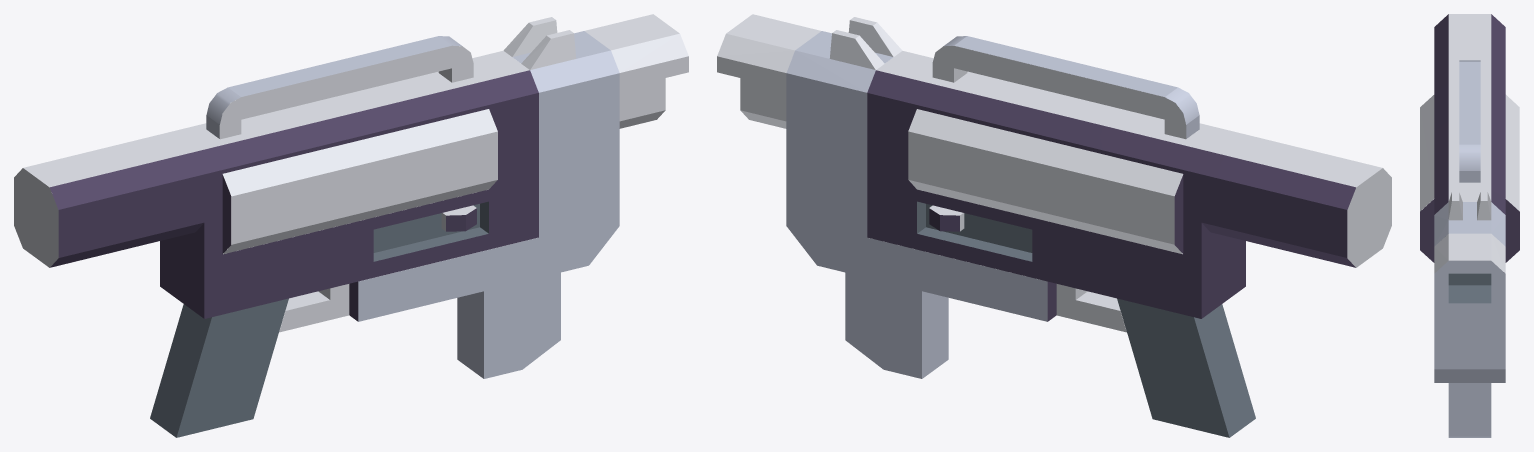
Rendered from blaster.gltf.
3 renders of one model, left to right at view 1: azimuth 30°, elevation 25°; view 2: azimuth 150°, elevation 25°; view 3: azimuth 270°, elevation 25°, orthographic. The views are drawn at different scales.
Visible parts, largest first — view 1: blasterA; view 2: blasterA; view 3: blasterA.
Part boxes in pixels (left/top/right/bottom): blasterA: left=14, top=14, right=688, bottom=437; blasterA: left=717, top=14, right=1391, bottom=437; blasterA: left=1420, top=14, right=1519, bottom=437.
Bounding box in the file's own units: 2.51 × 1.27 × 0.4284.
